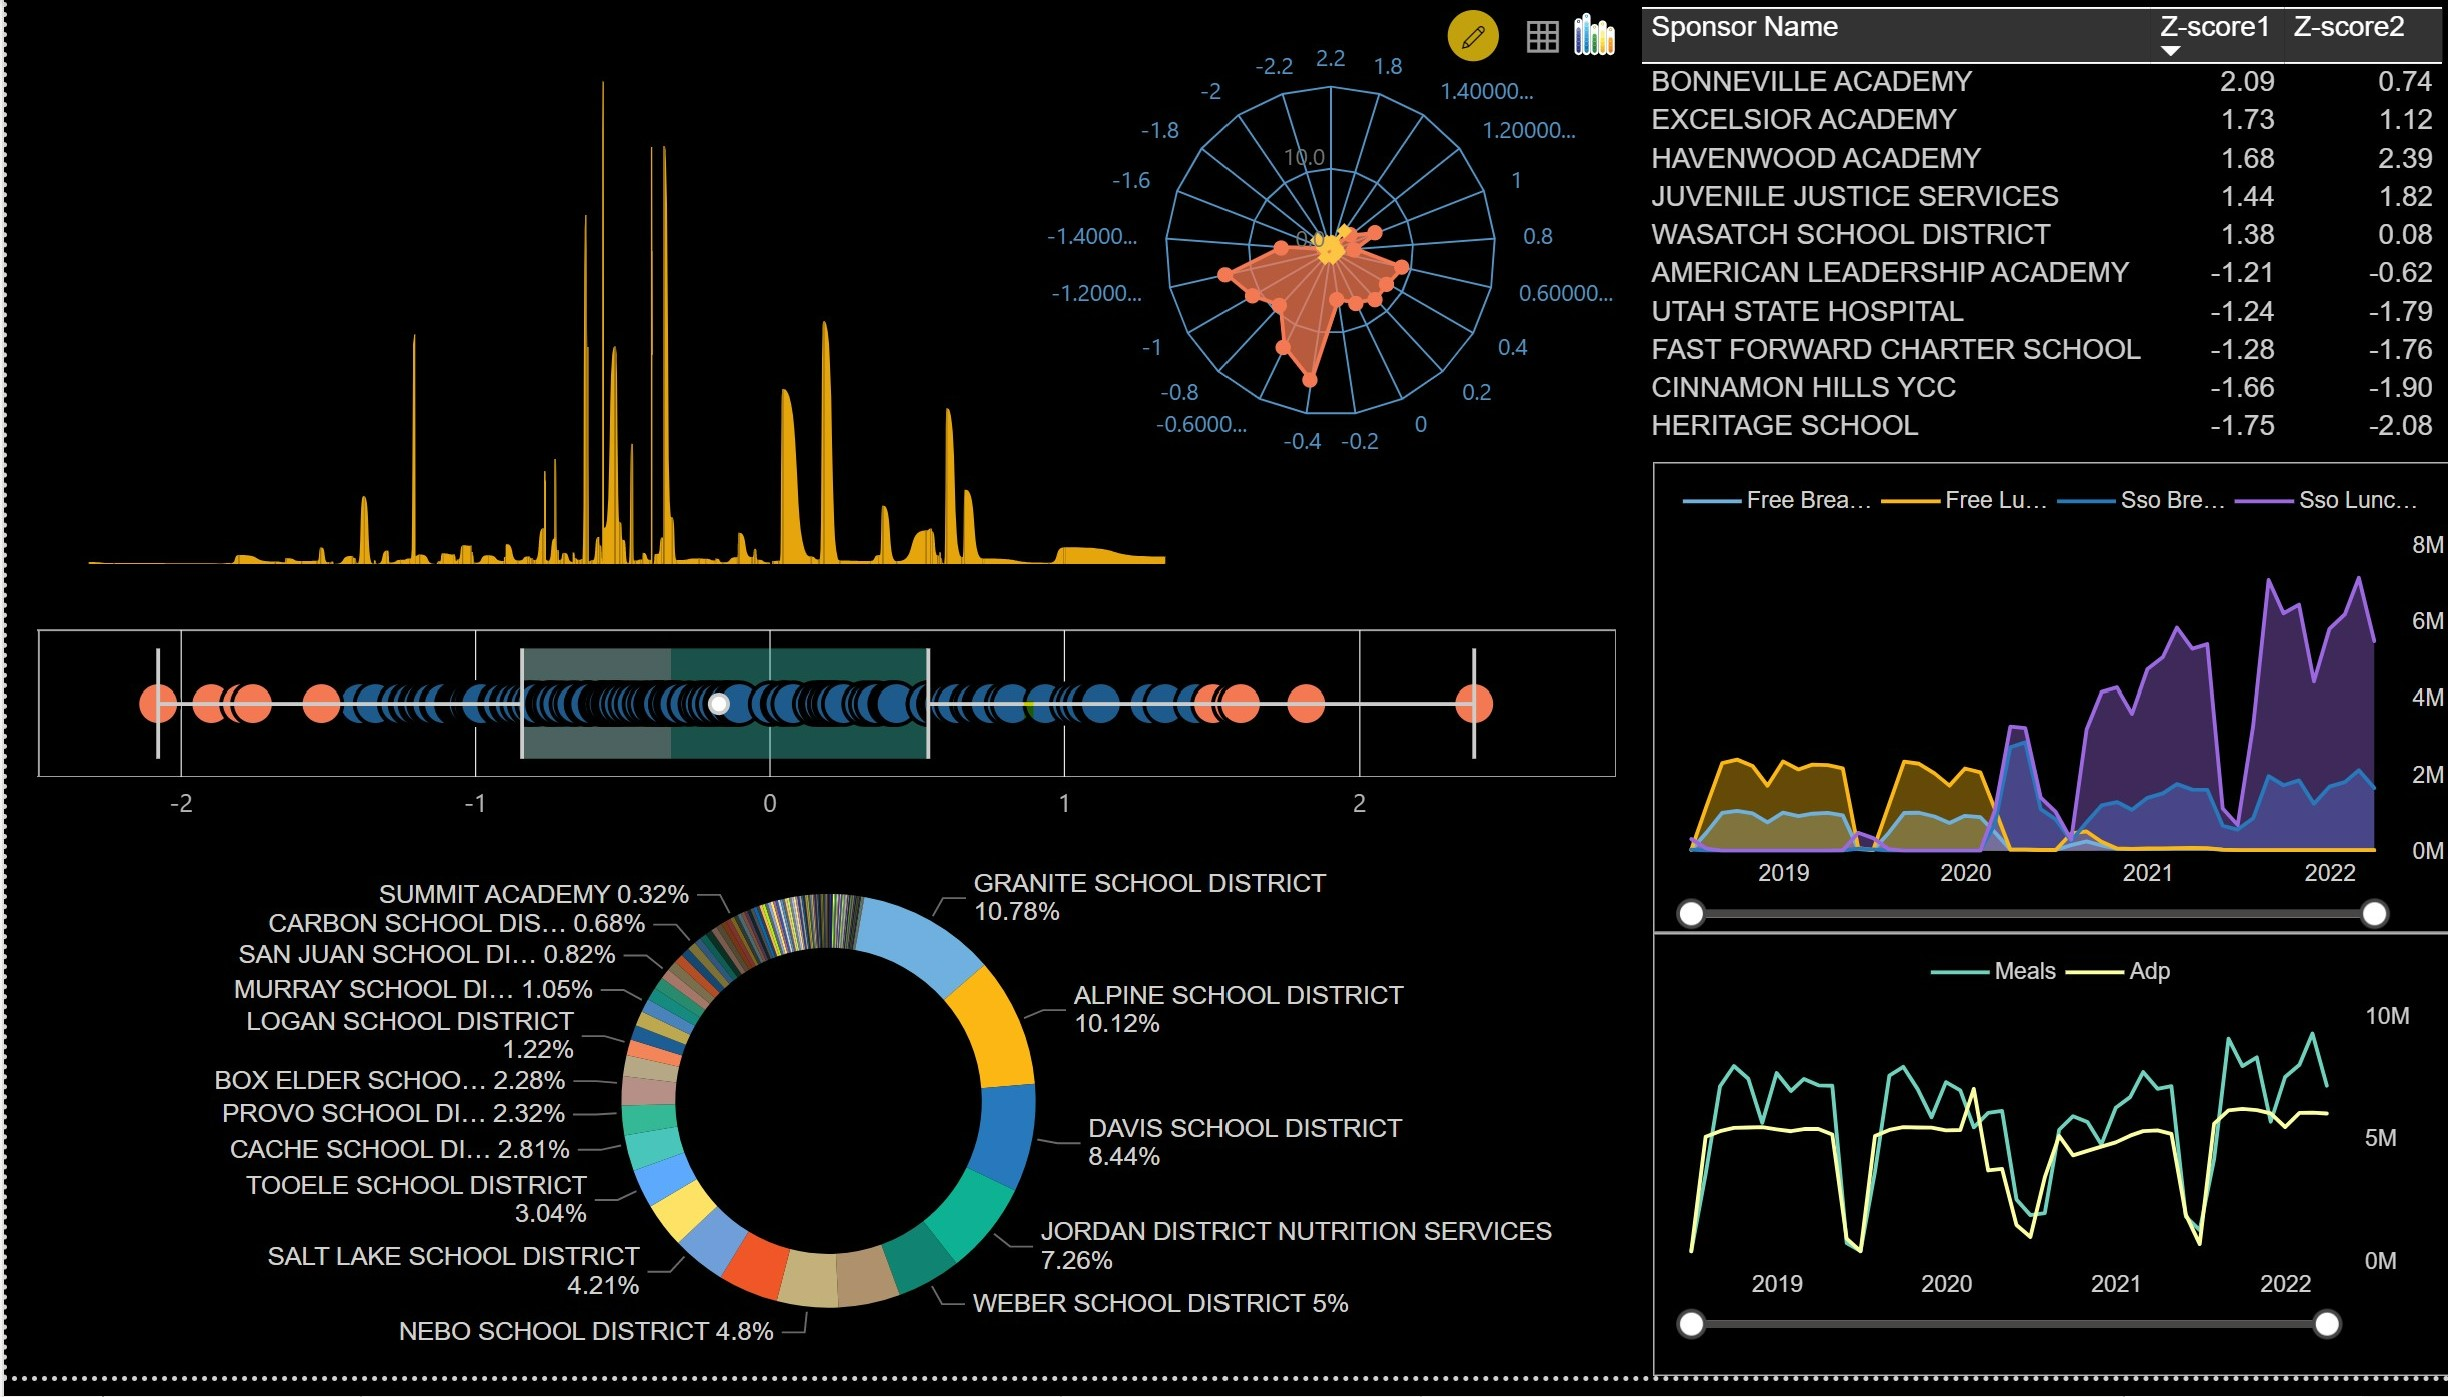

The page's visual inventory and layout, read from the dashboard file:
{"tool":"tableau","page":{"name":"Outlier Trends","canvas":[1000,500],"ordinal":2},"visuals":[{"type":"worksheet","title":"Sheet 9 (3)","mark":"Automatic","rows":["List By Name.x (copy)_692991420351942658"],"cols":["Claim Date.x","Claim Date.x"],"box":[9,9,982,136]},{"type":"filter","title":"Sheet 9 (4)","param":"[federated.0en58s41shyk6h1eqgkpd18q43y0].[tmn:Claim Date.x:qk]","box":[9,145,516,42.4]},{"type":"worksheet","title":"Sheet 1","mark":"Automatic","rows":["List By Name.x (copy)_692991420351942658"],"box":[525,145,466,172.7]},{"type":"worksheet","title":"Sheet 9 (4)","mark":"Line","rows":["Total Reimb","Total Reimb","Ada","Ada","Days","Days","Meals","Meals"],"cols":["Claim Date.x"],"box":[9,187.4,516,303.6]},{"type":"worksheet","title":"Sheet 2","mark":"Automatic","rows":["List By Name.x (copy)_692991420351942658"],"box":[525,317.7,466,173.3]}]}

Visuals, with their boxes on the page's 1000x500 design canvas (x1, y1, x2, y2). These are canvas units, not pixel positions in the 2448x1397 screenshot, which may show the page scaled, cropped or inside an application window:
"Sheet 9 (3)" worksheet: 9, 9, 991, 145
"Sheet 9 (4)" filter: 9, 145, 525, 187
"Sheet 1" worksheet: 525, 145, 991, 318
"Sheet 9 (4)" worksheet (Line marks): 9, 187, 525, 491
"Sheet 2" worksheet: 525, 318, 991, 491
